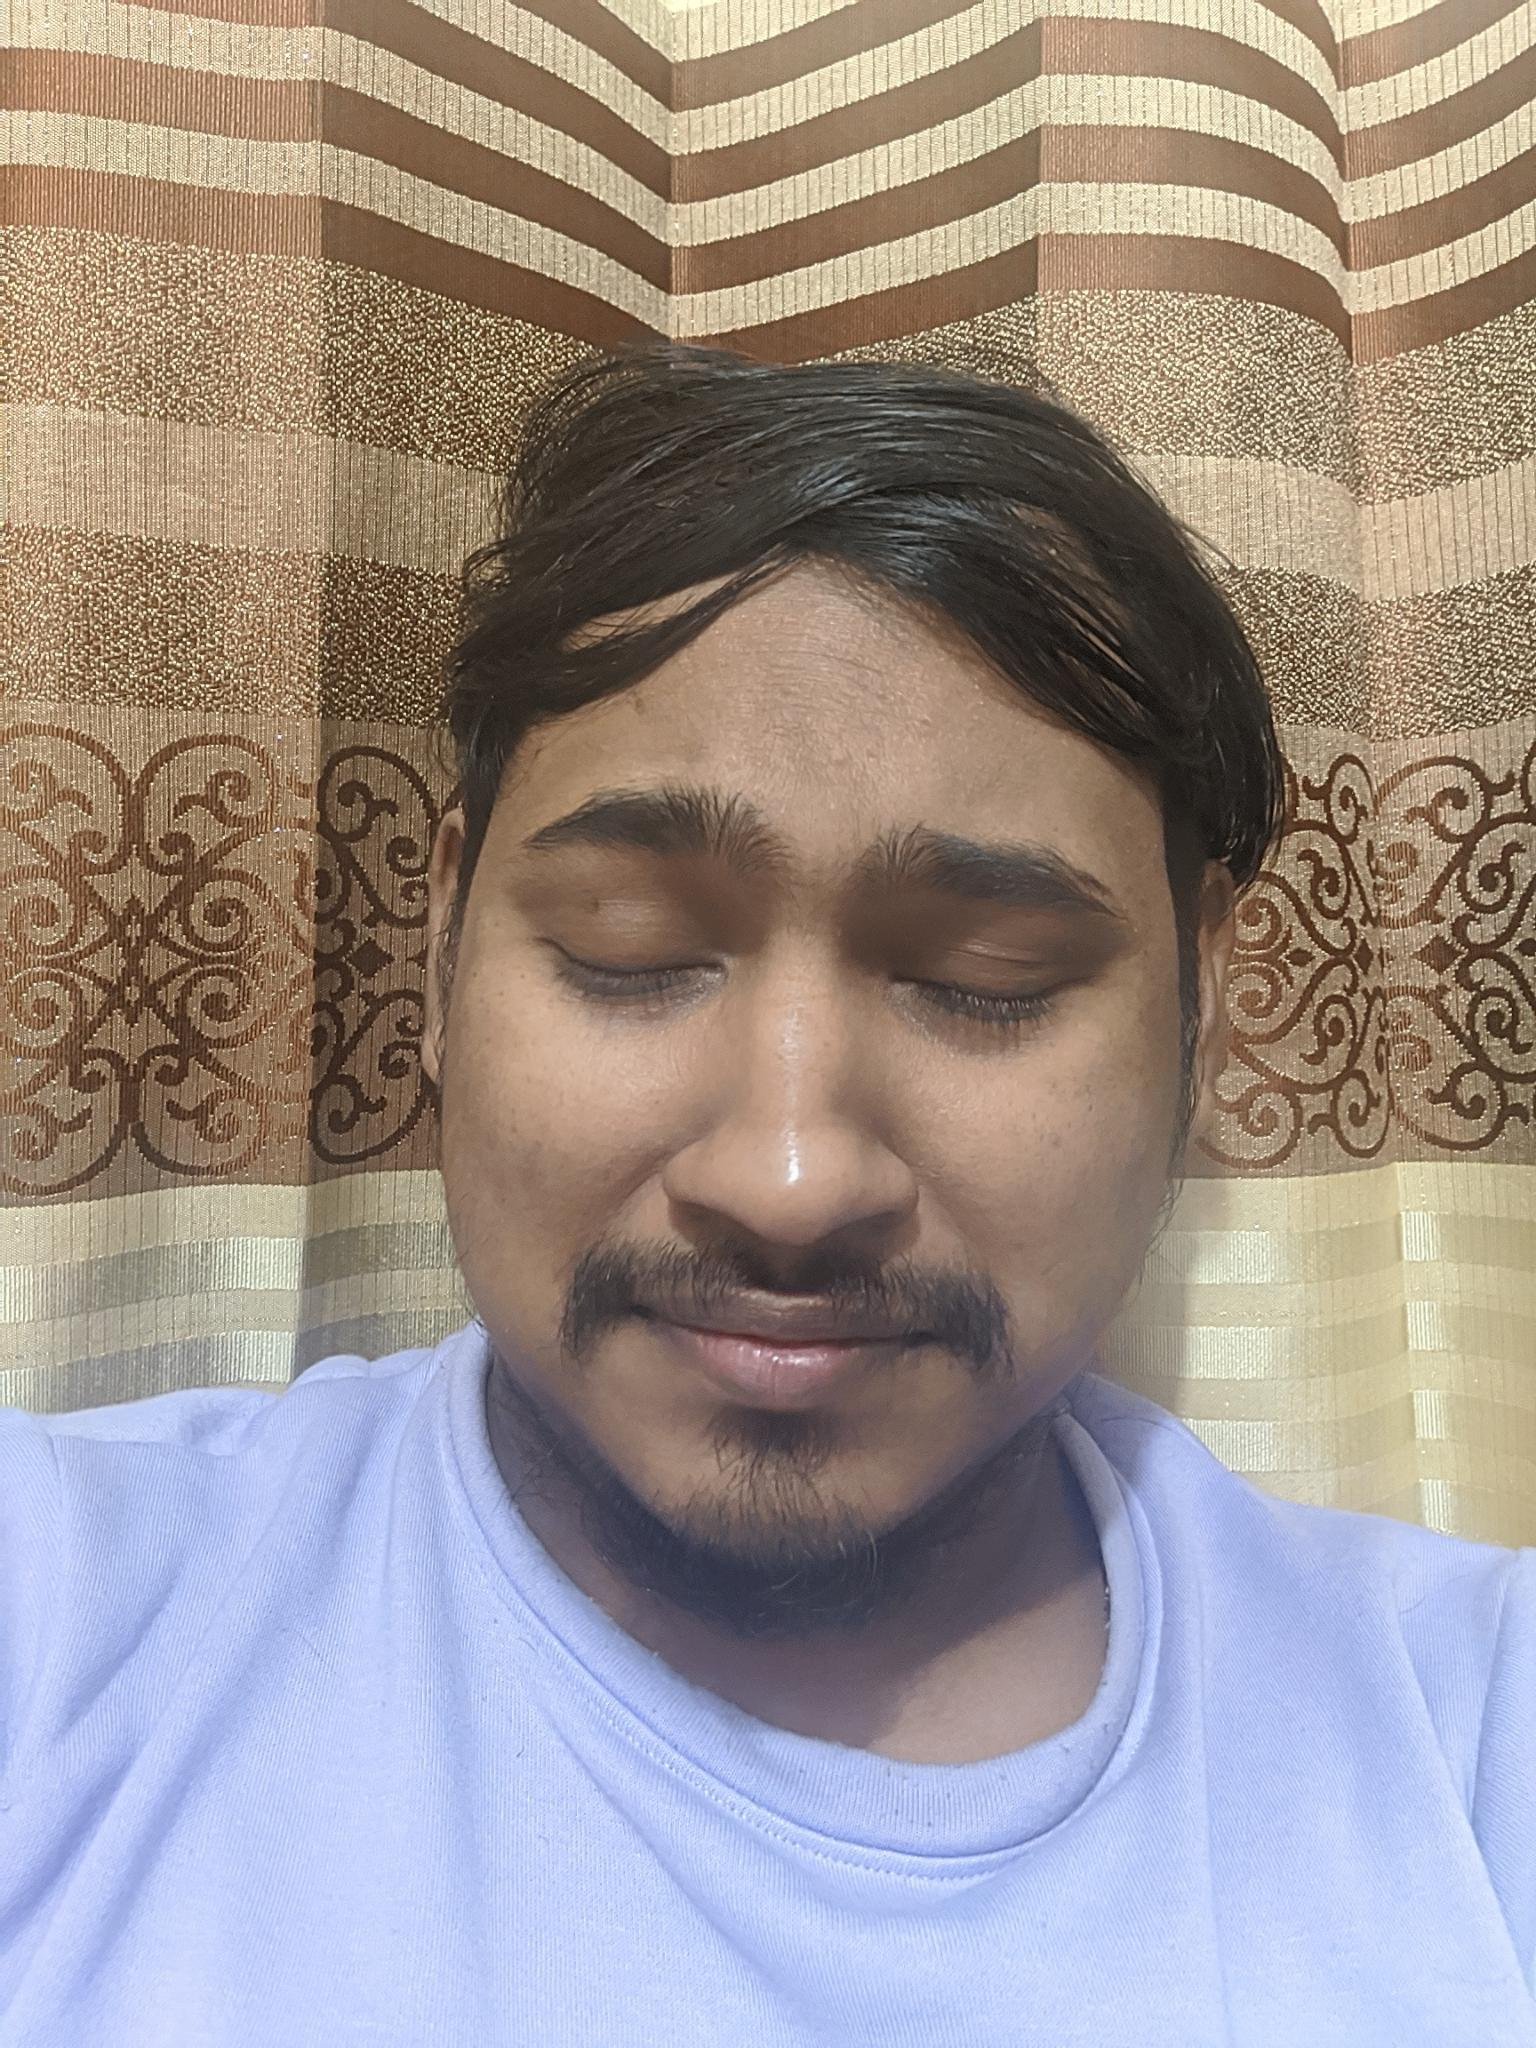Sad: (468, 697, 1152, 1572)
